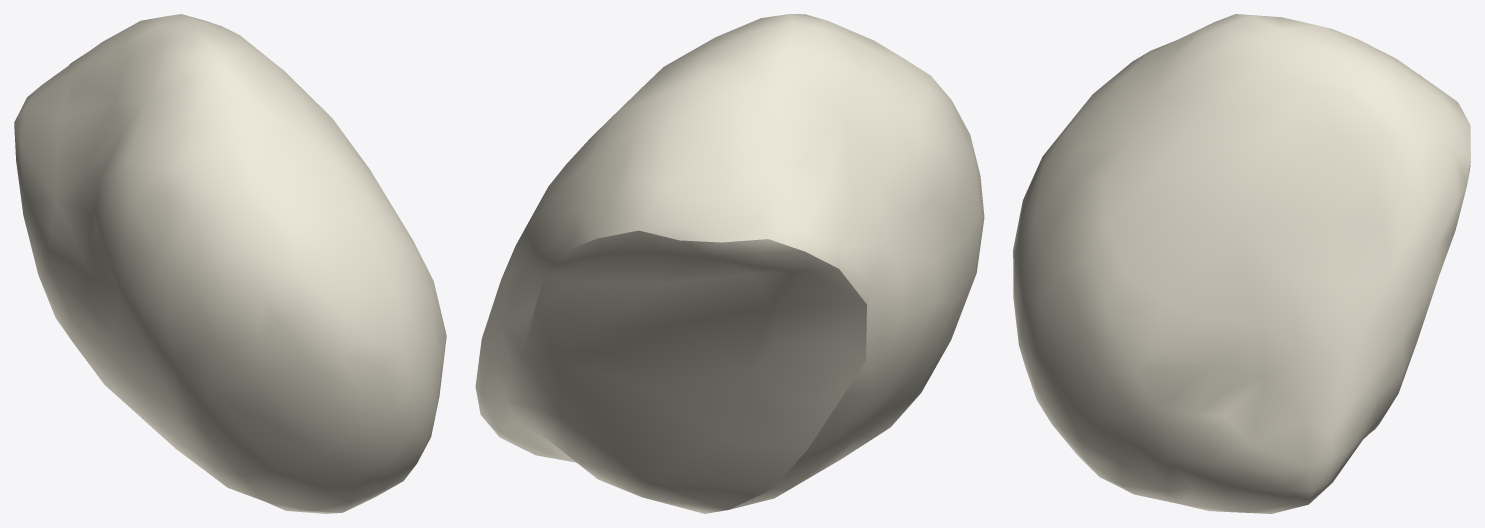
Rendered from fma24441_mm1888.glb.
The picture shows the model from 3 angles, left to right: view 1: azimuth 30°, elevation 25°; view 2: azimuth 150°, elevation 25°; view 3: azimuth 270°, elevation 25°; orthographic projection. The views are drawn at different scales.
Parts seen in each view (by area): view 1: FMA24441_MM1888; view 2: FMA24441_MM1888; view 3: FMA24441_MM1888.
Part boxes in pixels (bbox=[...]): FMA24441_MM1888: bbox=[14, 14, 446, 513]; FMA24441_MM1888: bbox=[475, 14, 984, 513]; FMA24441_MM1888: bbox=[1013, 14, 1470, 513].
Bounding box in the file's own units: 0.00935 × 0.011 × 0.0107.
